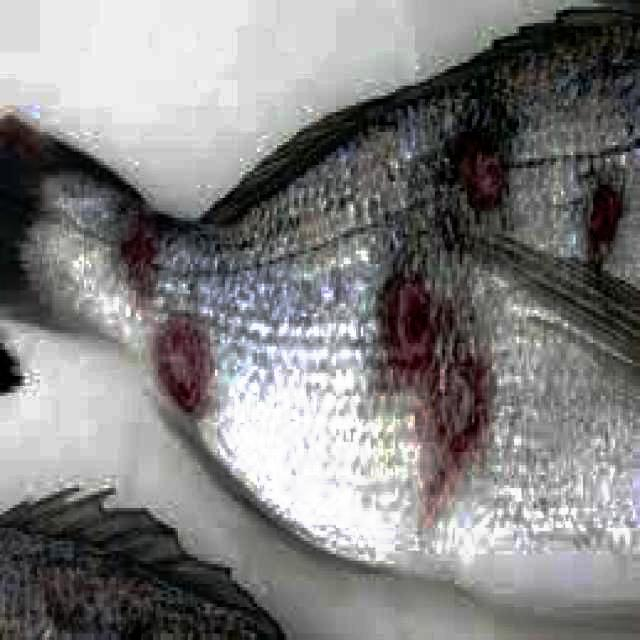Epizootic Ulcerative Syndrome -EUS-: (0, 7, 639, 618)
